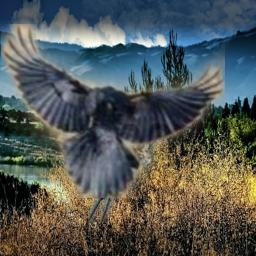Crow: (1, 24, 225, 198)
Swallow: (88, 95, 164, 223)
